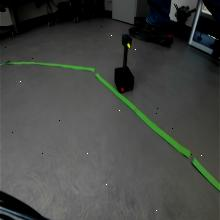green: (122, 34, 133, 48)
